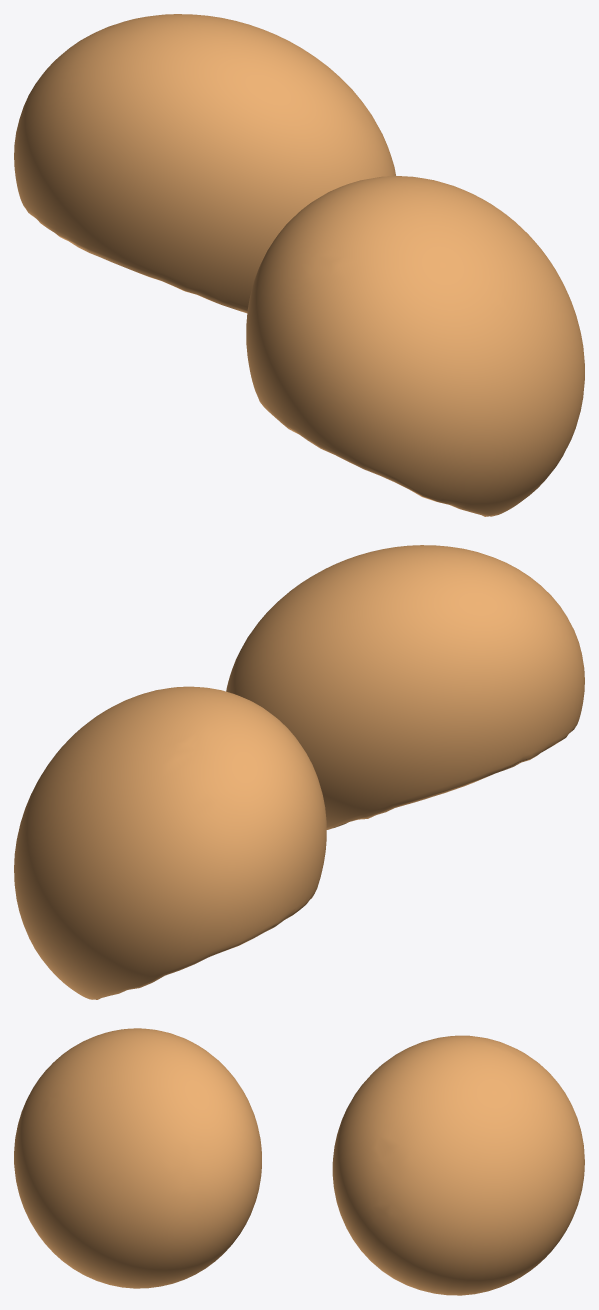
The model's file is eyelids.fbx.
The picture shows the model from 3 angles, top to bottom: view 1: azimuth 30°, elevation 25°; view 2: azimuth 150°, elevation 25°; view 3: azimuth 270°, elevation 25°; orthographic projection. The views are drawn at different scales.
Visible parts, largest first — view 1: eyelids; view 2: eyelids; view 3: eyelids.
Boxes of the visible parts, left/top/right/bottom form: eyelids: left=14, top=14, right=584, bottom=516; eyelids: left=14, top=545, right=584, bottom=999; eyelids: left=14, top=1028, right=584, bottom=1295.
Bounding box in the file's own units: 0.0976 × 0.0865 × 0.2066.
